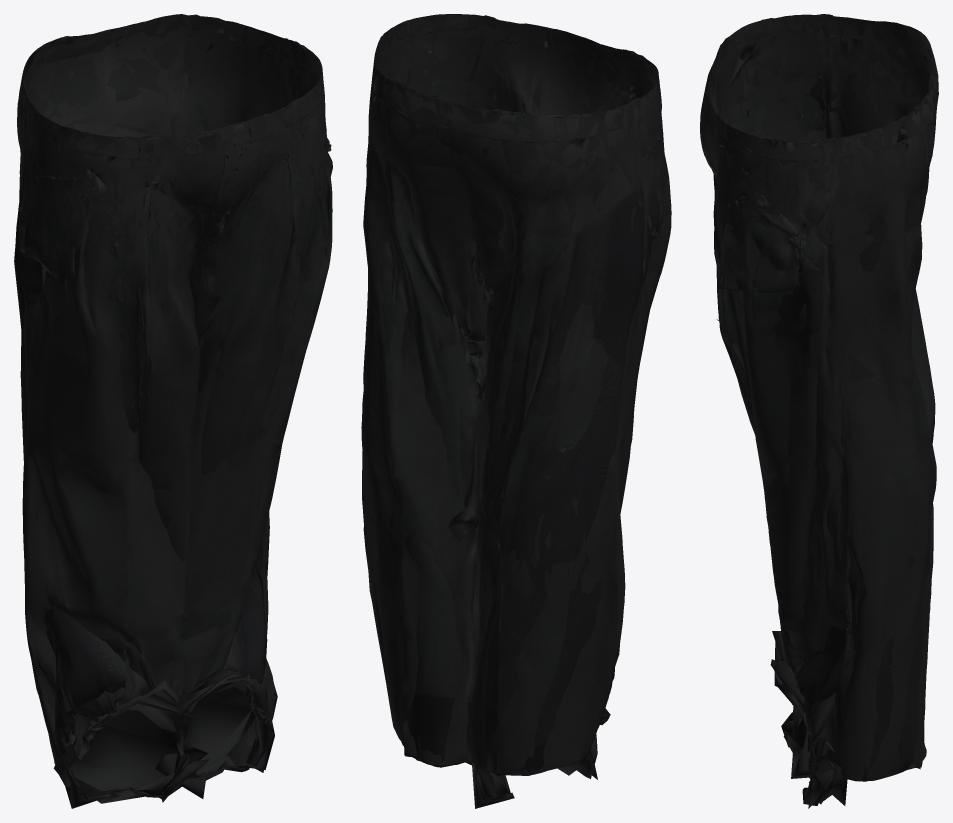
Rendered from accef58f-c437-4934-828f-e0621e6efacc.glb.
The picture shows the model from 3 angles, left to right: view 1: azimuth 30°, elevation 25°; view 2: azimuth 150°, elevation 25°; view 3: azimuth 270°, elevation 25°; orthographic projection. The views are drawn at different scales.
Visible parts, largest first — view 1: Mesh_0.001; view 2: Mesh_0.001; view 3: Mesh_0.001.
Part boxes in pixels (box(x1,y1,x2,y2)): Mesh_0.001: box(14, 14, 332, 808); Mesh_0.001: box(361, 14, 671, 808); Mesh_0.001: box(700, 14, 938, 808).
Size of the model in its own units: 0.4407 by 1.03 by 0.3128.
Materials: 1 (1 with a texture image).
